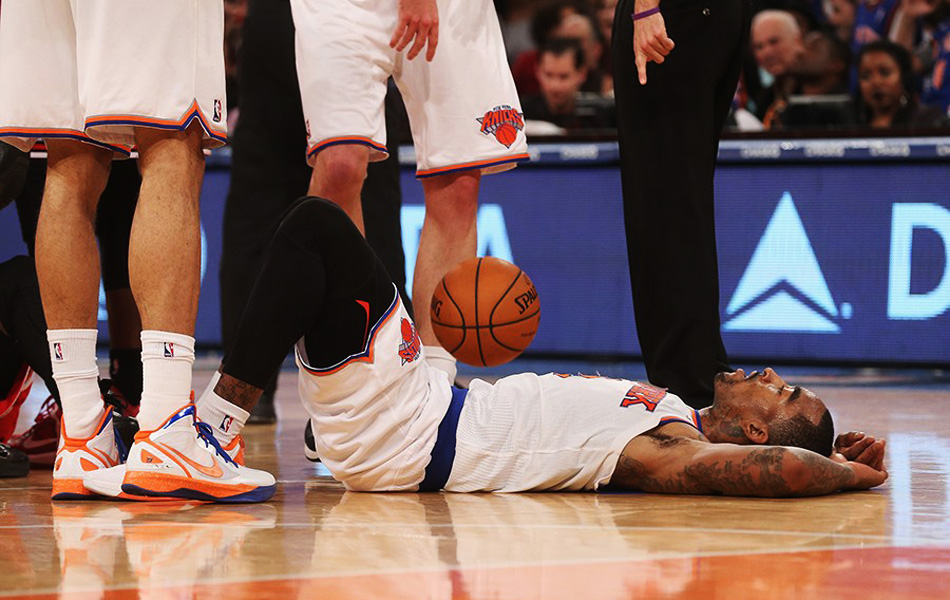fall: (180, 195, 903, 520)
